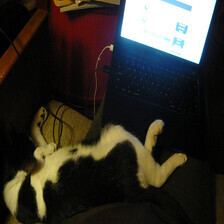laptop: (84, 1, 224, 163)
